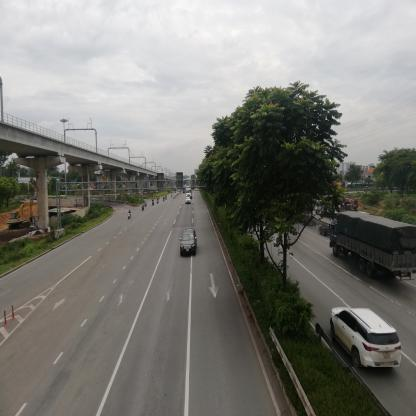car: (333, 303, 402, 368), (181, 229, 197, 259), (186, 200, 192, 206)
motorbike: (127, 212, 133, 220), (142, 205, 145, 214), (153, 203, 155, 207), (159, 201, 160, 204)
truck: (330, 211, 416, 281)
